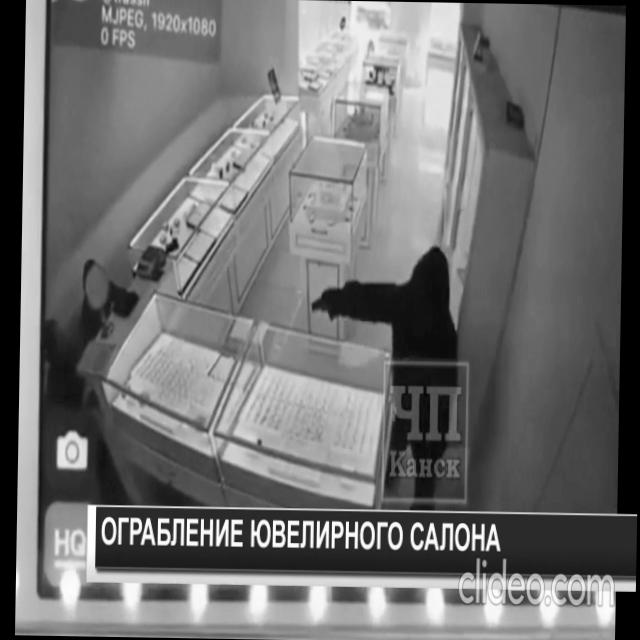gun: (311, 284, 332, 318)
person with a gun: (307, 244, 462, 516)
